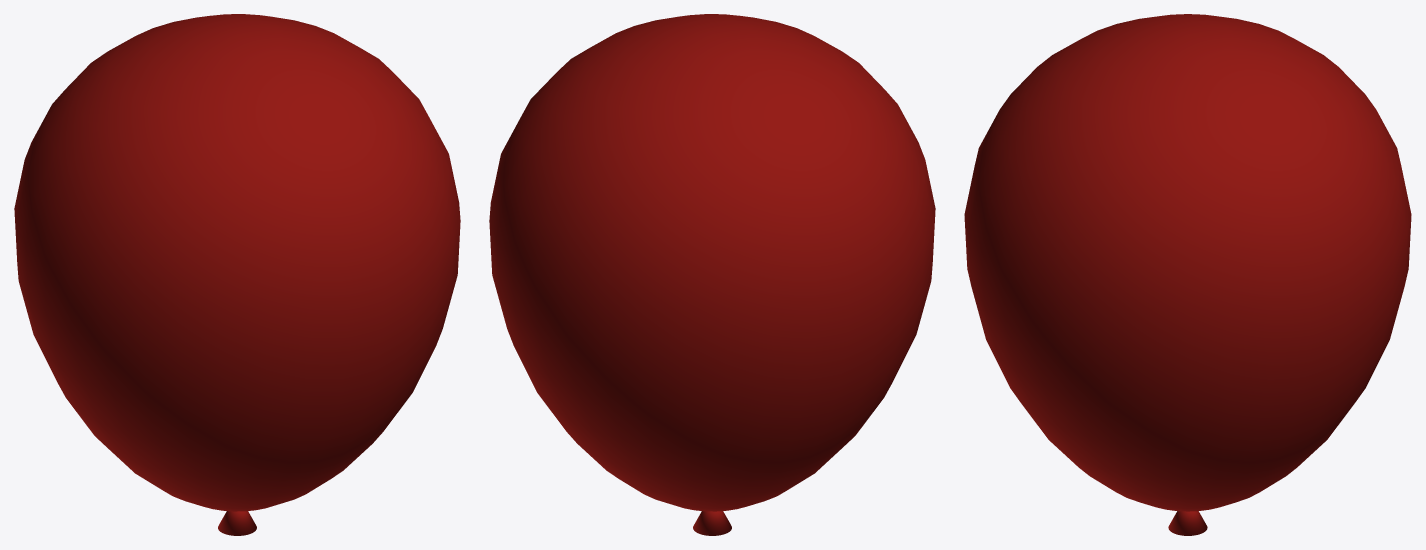
The model's file is low-poly_balloon.glb.
The picture shows the model from 3 angles, left to right: view 1: azimuth 30°, elevation 25°; view 2: azimuth 150°, elevation 25°; view 3: azimuth 270°, elevation 25°; orthographic projection.
Parts seen in each view (by area): view 1: Object_4; view 2: Object_4; view 3: Object_4.
Boxes of the visible parts, x1=… form: Object_4: x1=14, y1=14, x2=460, y2=535; Object_4: x1=489, y1=14, x2=935, y2=535; Object_4: x1=964, y1=14, x2=1411, y2=535.
Size of the model in its own units: 1.94 by 2.36 by 1.94.
